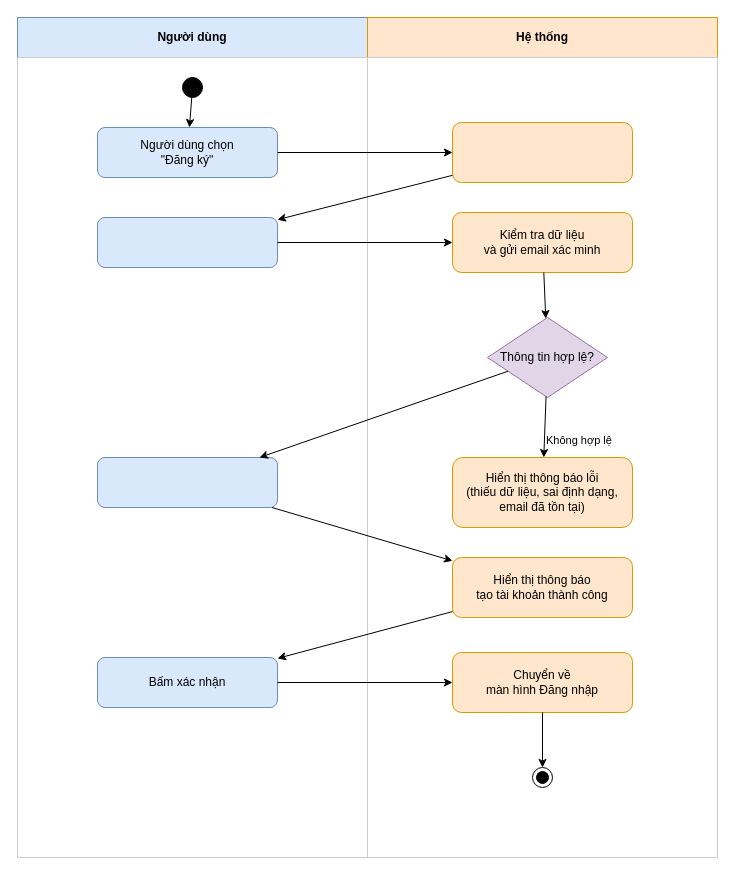
The diagram is 735 pixels wide and 875 high, and some of its shapes have lost their labels. Here are the shapes that lost their labels. From the top down, the centre of each, then its label:
the point at 542,152: Hiển thị giao diện đăng ký (Email, Mật khẩu, Xác nhận)
the point at 187,242: Nhập thông tin và bấm Đăng ký
the point at 187,482: Xác nhận email qua thư gửi đến
